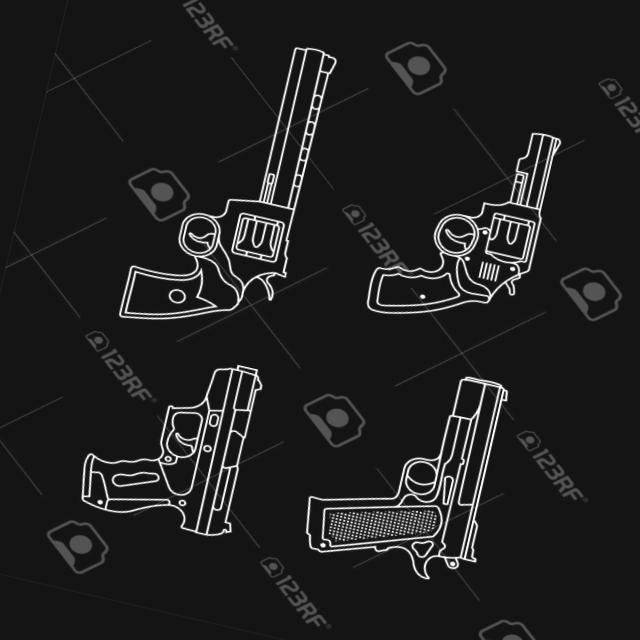handgun: (109, 13, 344, 362), (286, 346, 521, 596), (358, 95, 576, 360), (66, 333, 272, 556)
